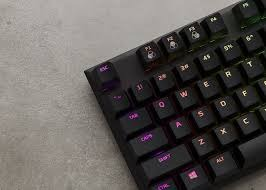keyboard: (79, 0, 266, 190)
